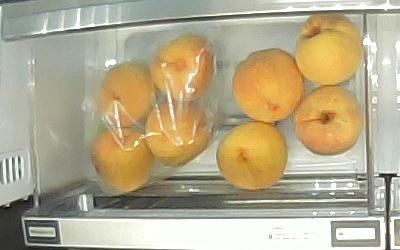peach: (231, 48, 306, 124), (292, 86, 363, 157), (216, 121, 287, 191), (293, 13, 362, 85)
peach_vinyl: (149, 32, 215, 101), (145, 101, 211, 165), (90, 127, 153, 193), (99, 62, 156, 126)
